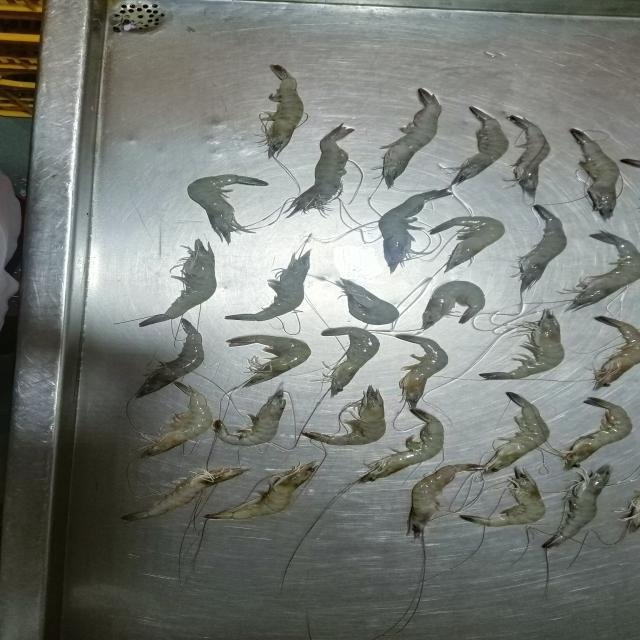shrimp: (354, 408, 443, 483), (122, 468, 248, 520), (204, 462, 315, 519), (226, 250, 312, 321), (288, 125, 355, 216), (563, 231, 639, 311), (379, 188, 451, 272), (380, 88, 440, 187), (480, 310, 563, 379), (481, 392, 549, 475), (187, 175, 267, 243), (543, 466, 610, 547), (139, 381, 212, 455), (556, 398, 632, 468), (408, 463, 480, 536), (136, 318, 203, 396), (159, 239, 216, 326), (460, 469, 545, 526), (516, 204, 566, 294), (307, 387, 385, 443), (571, 128, 619, 218), (429, 215, 505, 271), (227, 335, 310, 386), (259, 64, 304, 157), (452, 107, 507, 183), (214, 388, 286, 445), (320, 327, 379, 395), (397, 335, 447, 407), (507, 115, 549, 198), (593, 316, 639, 388), (421, 280, 485, 330), (337, 278, 400, 325), (623, 493, 639, 528), (621, 158, 639, 166)
